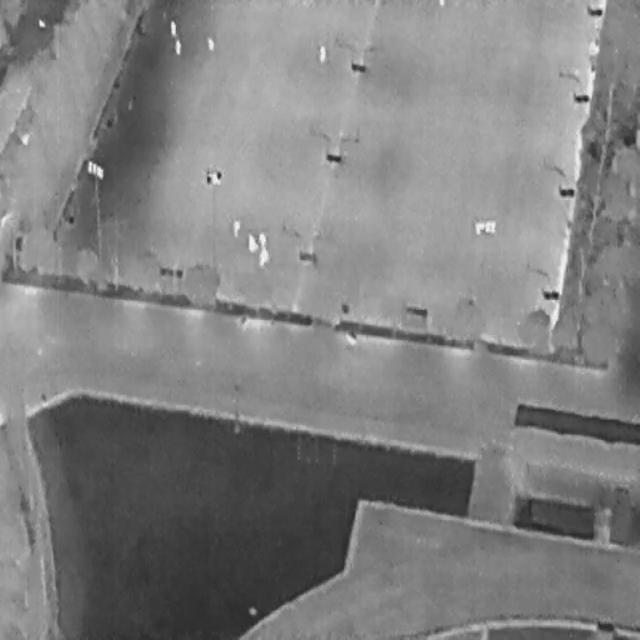Person: (247, 231, 257, 251), (259, 248, 269, 266), (258, 230, 266, 248), (318, 44, 326, 61), (232, 218, 239, 236), (206, 35, 214, 50), (174, 39, 181, 55), (169, 20, 176, 35)
